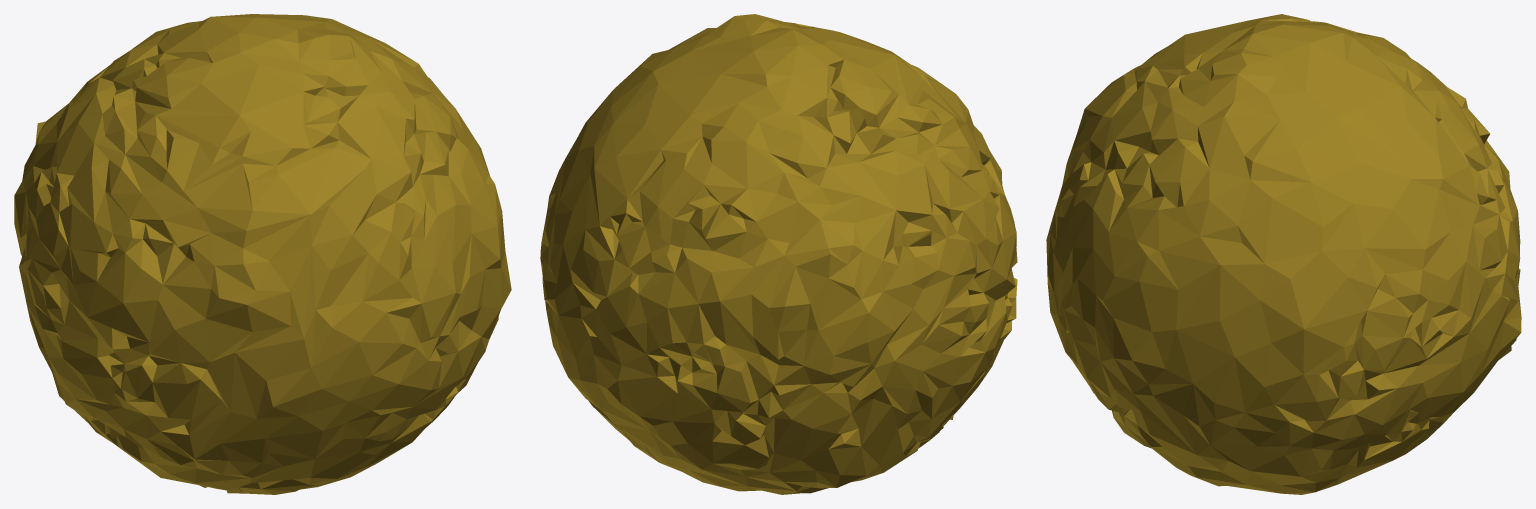
The model's file is Planet 6.FBX.
The picture shows the model from 3 angles, left to right: view 1: azimuth 30°, elevation 25°; view 2: azimuth 150°, elevation 25°; view 3: azimuth 270°, elevation 25°; orthographic projection. The views are drawn at different scales.
Visible parts, largest first — view 1: Planet 6; view 2: Planet 6; view 3: Planet 6.
Boxes of the visible parts, x1=… form: Planet 6: x1=14, y1=14, x2=511, y2=494; Planet 6: x1=540, y1=14, x2=1017, y2=494; Planet 6: x1=1046, y1=14, x2=1521, y2=494.
Bounding box in the file's own units: 226 × 227 × 226.
